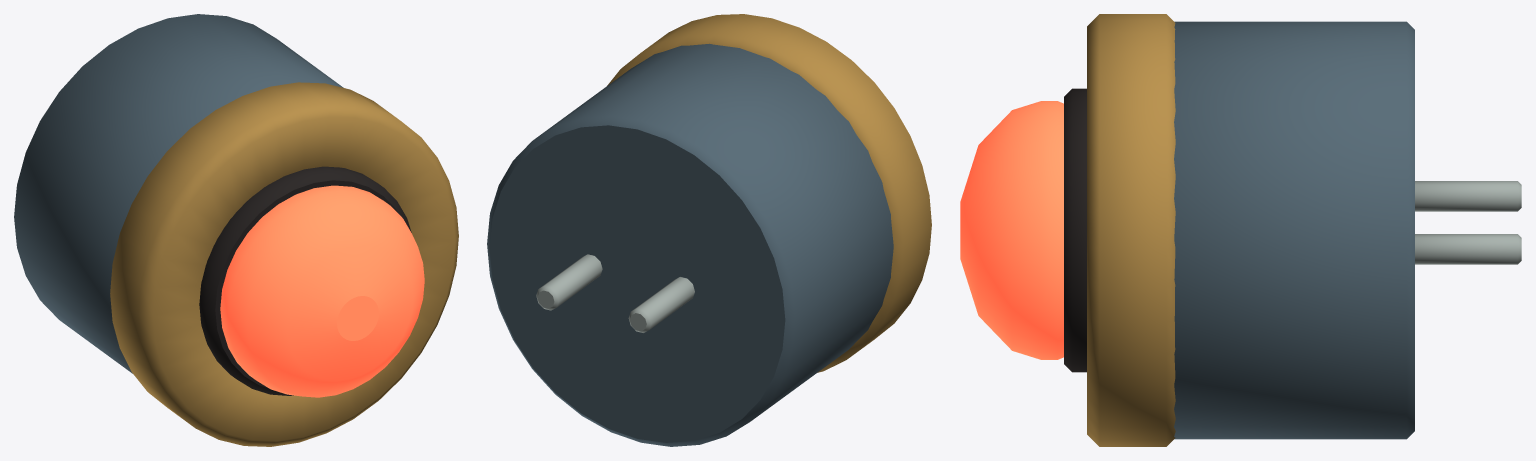
Rendered from SectorLamp_Red.fbx.
The picture shows the model from 3 angles, left to right: view 1: azimuth 30°, elevation 25°; view 2: azimuth 150°, elevation 25°; view 3: azimuth 270°, elevation 25°; orthographic projection. The views are drawn at different scales.
Parts seen in each view (by area): view 1: Retaining ring.002, Socket shell.002, Replaceable lens.002, Lens seat.002; view 2: Socket shell.002, Retaining ring.002, Terminal.005, Terminal.004; view 3: Socket shell.002, Retaining ring.002, Replaceable lens.002, Lens seat.002, Terminal.004, Terminal.005.
Boxes of the visible parts, box(x1,y1,x2,y2) form: Retaining ring.002: box(110, 82, 458, 446); Socket shell.002: box(14, 14, 343, 373); Replaceable lens.002: box(220, 185, 424, 397); Lens seat.002: box(199, 166, 411, 395); Socket shell.002: box(487, 43, 893, 446); Retaining ring.002: box(607, 14, 931, 372); Terminal.005: box(536, 254, 602, 310); Terminal.004: box(628, 277, 694, 332); Socket shell.002: box(1174, 21, 1414, 439); Retaining ring.002: box(1087, 14, 1175, 446); Replaceable lens.002: box(960, 101, 1063, 359); Lens seat.002: box(1064, 88, 1086, 372); Terminal.004: box(1415, 181, 1521, 211); Terminal.005: box(1415, 234, 1521, 264).
Size of the model in its own units: 0.104 by 0.104 by 0.1343.
